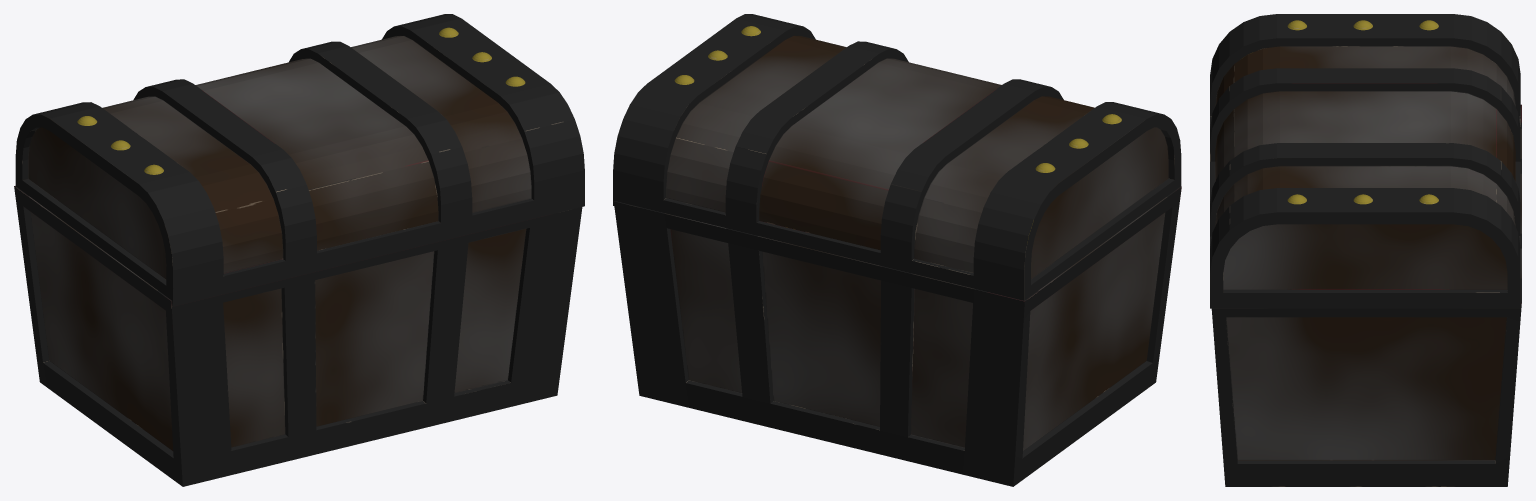
Rendered from mimick.fbx.
The picture shows the model from 3 angles, left to right: view 1: azimuth 30°, elevation 25°; view 2: azimuth 150°, elevation 25°; view 3: azimuth 270°, elevation 25°; orthographic projection.
Visible parts, largest first — view 1: Mimicktop, Mimickunder; view 2: Mimicktop, Mimickunder; view 3: Mimicktop, Mimickunder.
Part boxes in pixels (bbox=[...]): Mimicktop: bbox=[15, 14, 584, 306]; Mimickunder: bbox=[14, 186, 582, 486]; Mimicktop: bbox=[613, 14, 1181, 300]; Mimickunder: bbox=[613, 186, 1181, 486]; Mimicktop: bbox=[1210, 14, 1520, 308]; Mimickunder: bbox=[1211, 104, 1521, 486].
Size of the model in its own units: 665 by 450 by 440.
2 materials, 2 textured.
